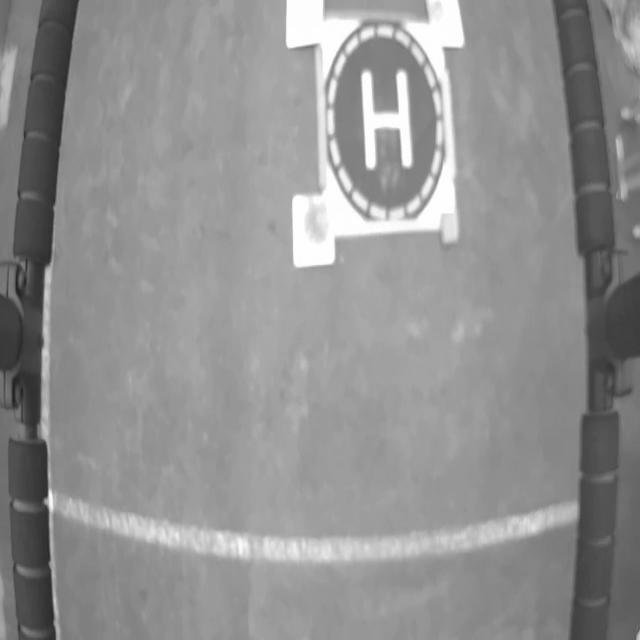Helipad: (360, 69, 413, 172)
